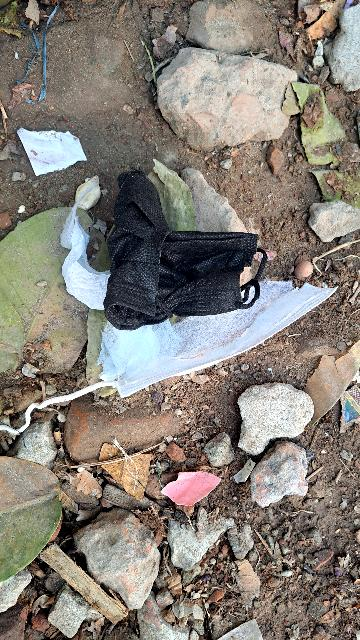mask: (43, 136, 332, 392)
